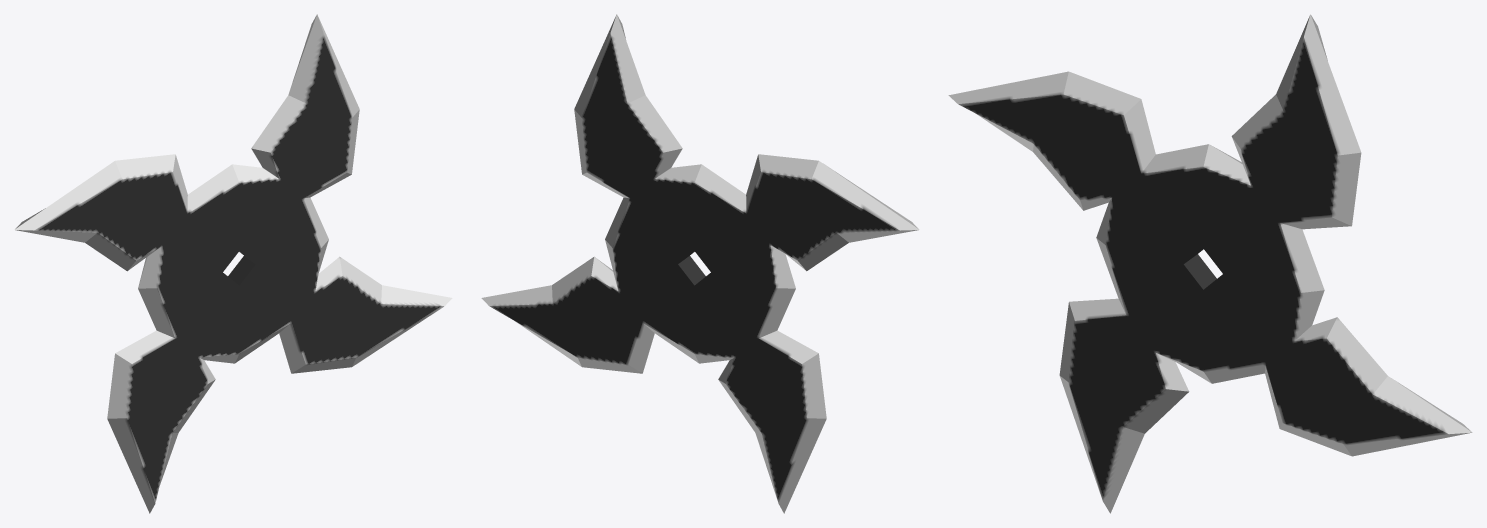
The model's file is syuriken3.fbx.
3 views of the same model, side by side, from view 1: azimuth 30°, elevation 25°; view 2: azimuth 150°, elevation 25°; view 3: azimuth 330°, elevation 25° (orthographic). The views are drawn at different scales.
Visible parts, largest first — view 1: syuriken3; view 2: syuriken3; view 3: syuriken3.
Part boxes in pixels (x1=…): syuriken3: x1=14, y1=14, x2=452, y2=513; syuriken3: x1=481, y1=14, x2=919, y2=513; syuriken3: x1=948, y1=14, x2=1472, y2=513.
Size of the model in its own units: 0.2318 by 0.2318 by 0.0109.
